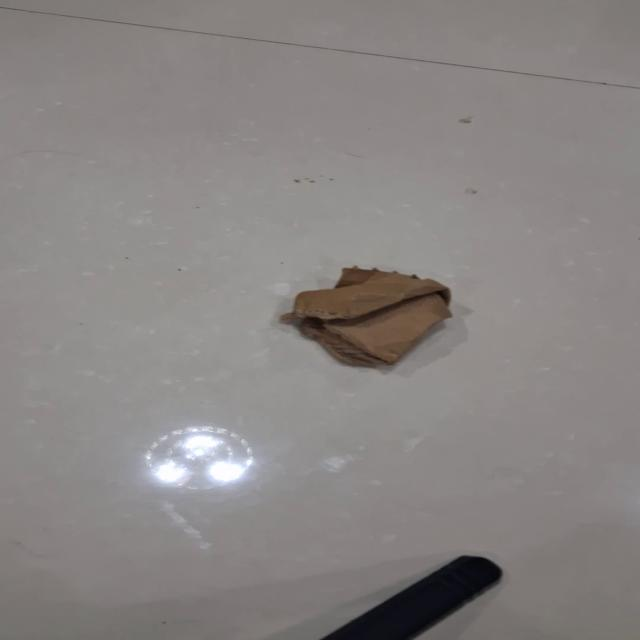paper: (282, 265, 453, 367)
